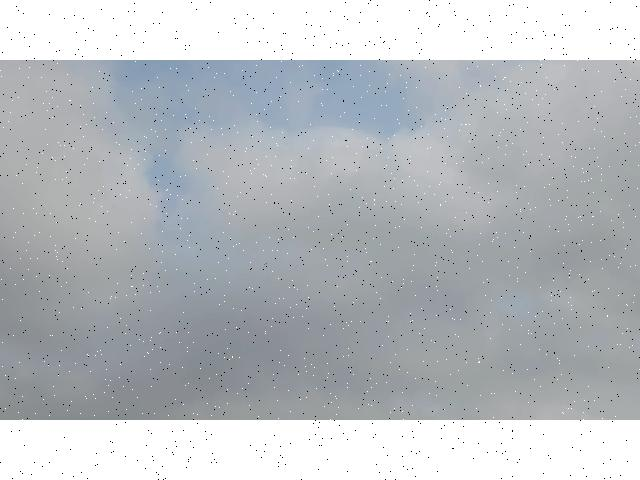Anti-Drone: (264, 262, 268, 266)
